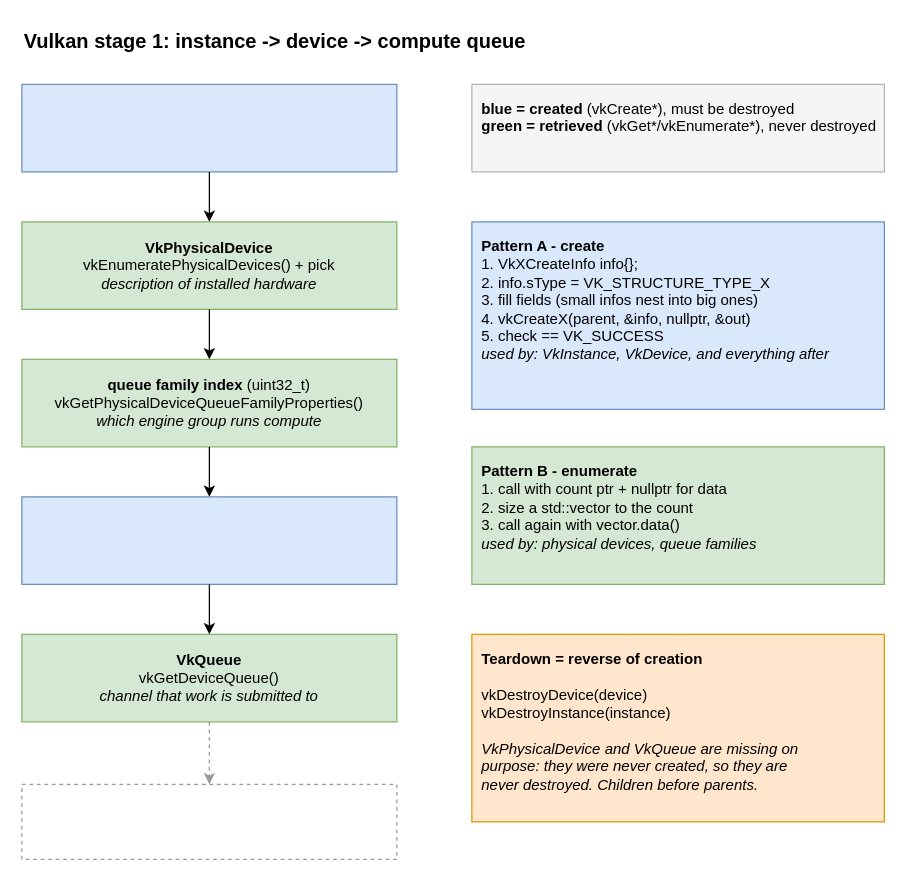
The diagram is 906 pixels wide and 881 high, and some of its shapes have lost their labels. Here are the shapes that lost their labels. From the top down, the centre of each, then its label:
(x=209, y=127): VkInstance vkCreateInstance() connection to the loader
(x=209, y=540): VkDevice vkCreateDevice() open session with the chosen GPU
(x=209, y=821): VkCommandPool -> VkCommandBuffer next stage
